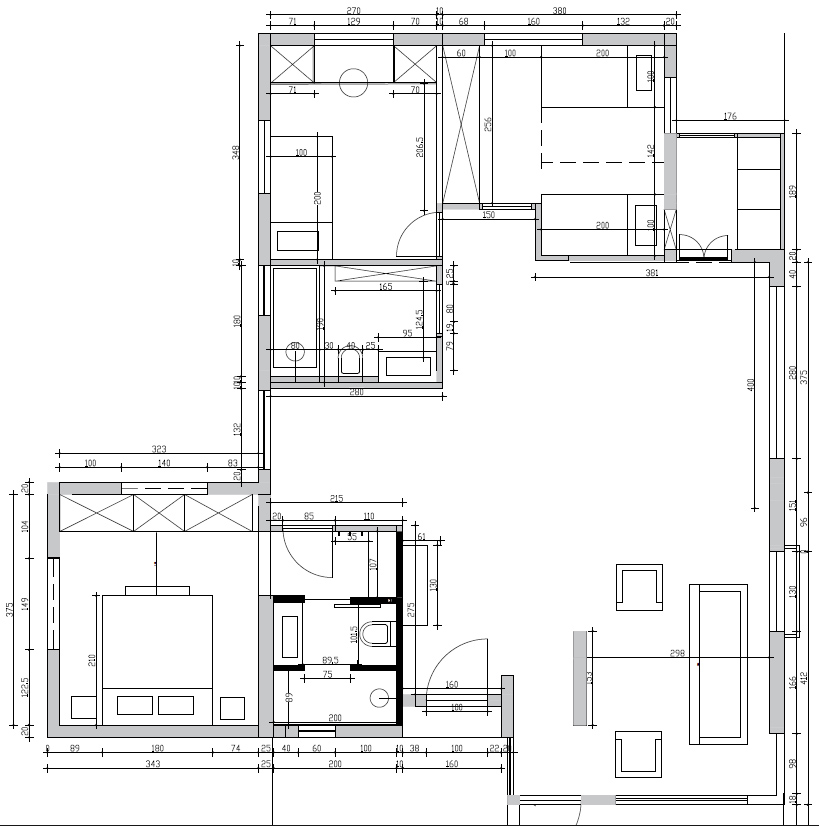door: (427, 636, 491, 687), (280, 530, 333, 587), (395, 211, 441, 258)
wall: (48, 725, 253, 736), (259, 595, 272, 737), (271, 381, 440, 389)
window: (770, 286, 785, 458), (770, 551, 783, 631), (258, 390, 270, 466), (259, 120, 270, 194), (258, 265, 270, 315)
